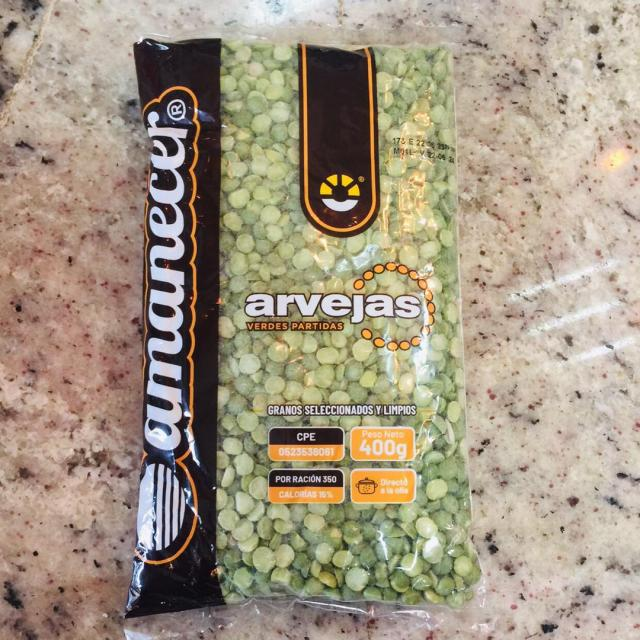arvejas: (224, 46, 294, 281)
